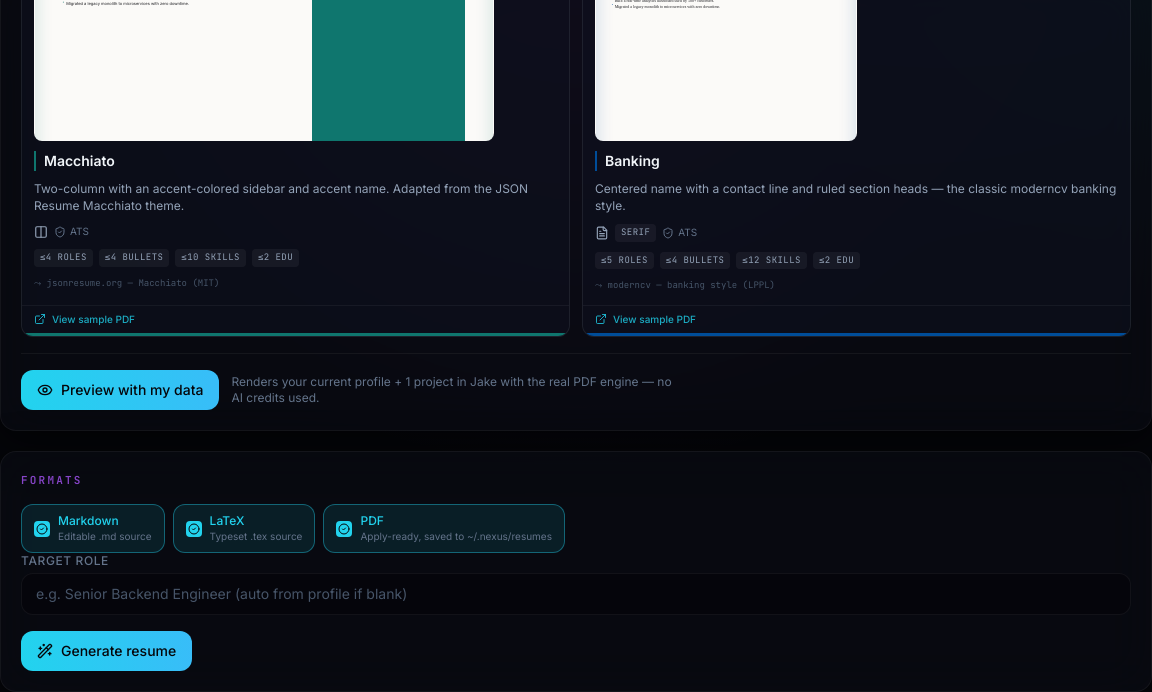
Test: ImproveTab › renders the assessor verdict and preview for a valid response
(page scrolled)
Click the button "Generate resume".
click(107, 651)  # box [21,631,192,671]
(page scrolled)
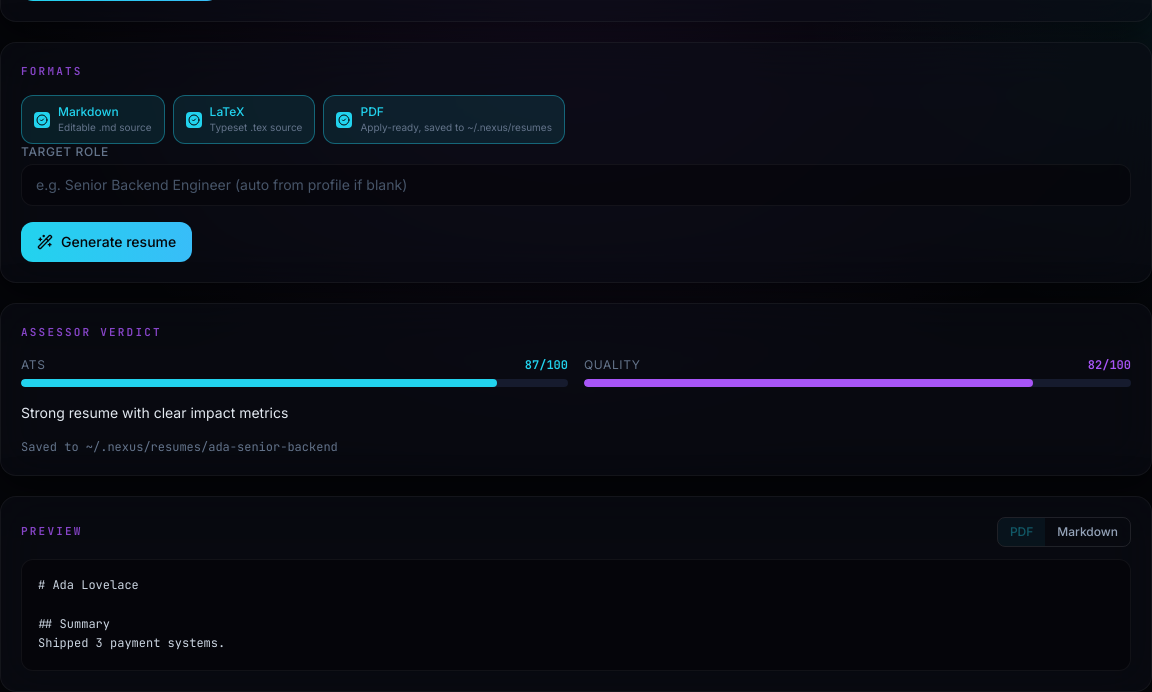
expect the heading "Assessor verdict" is shown: met, box [21,324,162,340]
expect the text "87/100" is shown: met, box [525,356,568,372]
expect the text "# Ada Lovelace ## Summary Shipped 3 payment systems." is shown: met, box [21,558,1131,670]
